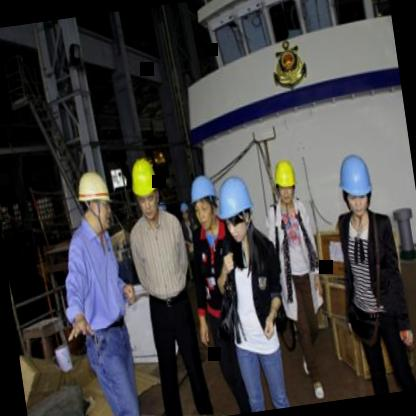helmet: (212, 174, 258, 247), (334, 148, 378, 223), (71, 164, 117, 233), (124, 152, 164, 220), (185, 170, 222, 232), (268, 153, 302, 211)
